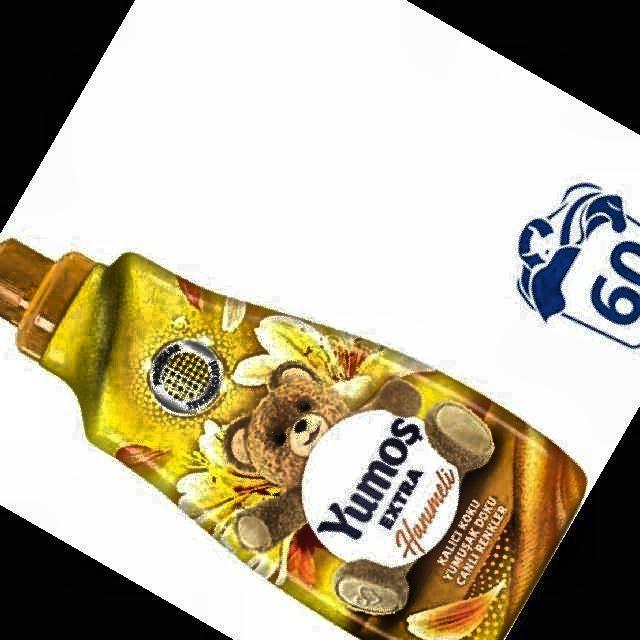plastic: (0, 239, 586, 640)
